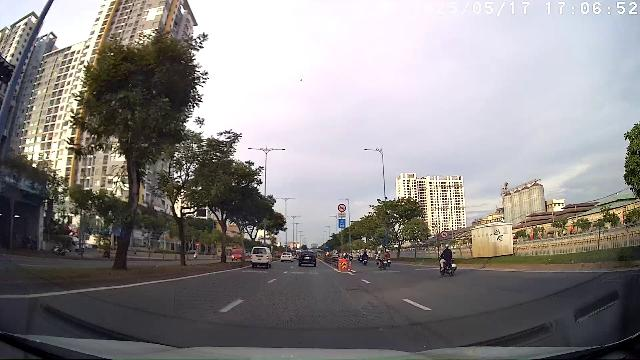103a-cam-oto: (441, 231, 448, 238)
